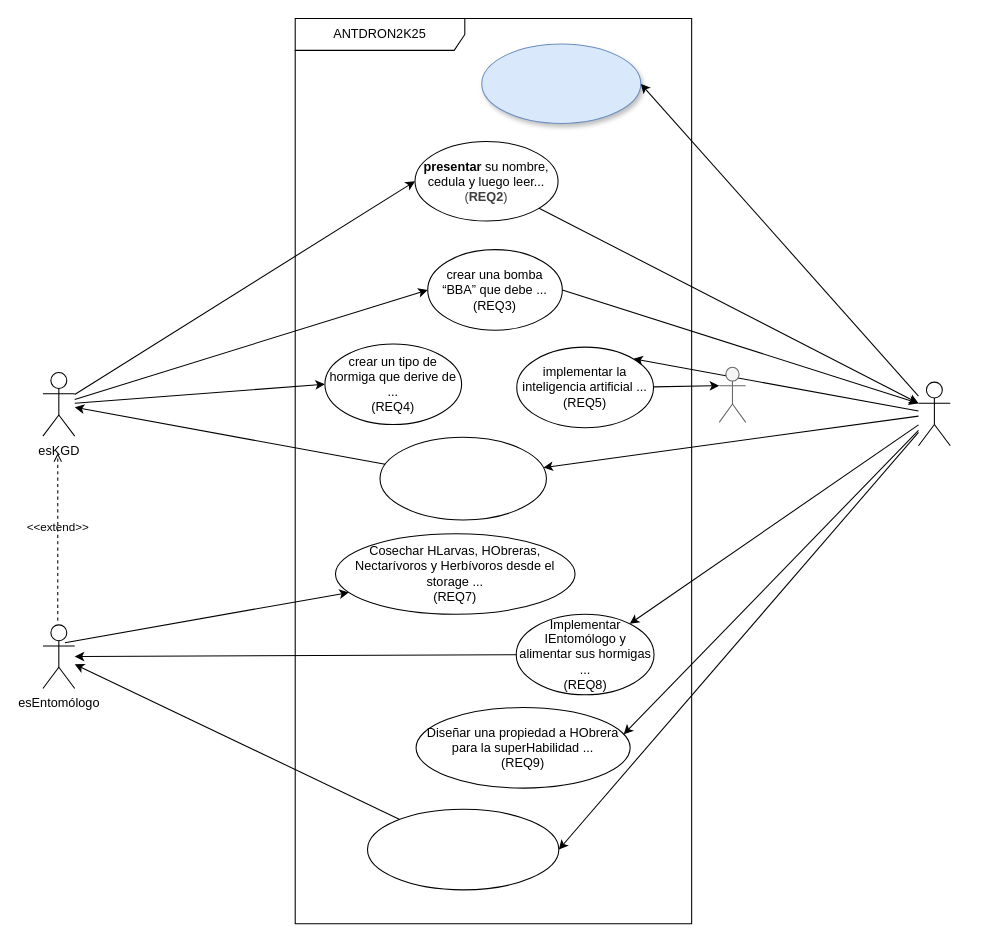
The diagram is 997 pixels wide and 942 high, and some of its shapes have lost their labels. Each missing label, with the centre of its shape:
"Crear un archivo “ApellidoNombre.csv” .... ( REQ1 )" belongs at point 561,85.
"esAntCiberDron" belongs at point 732,394.
"esSistemaRuso" belongs at point 933,413.
"Garantizar que la acción preparar(Alimento):Alimento sea ... (REQ10)" belongs at point 462,849.
"Solicitar autenticación (usuario y contraseña; agregar ... (REQ6)" belongs at point 462,478.
